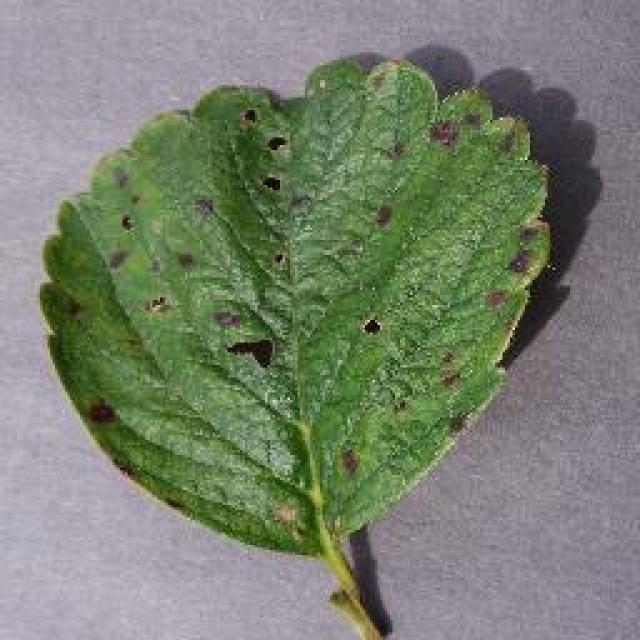Strawberry leaf scorch: (114, 153, 494, 382)
